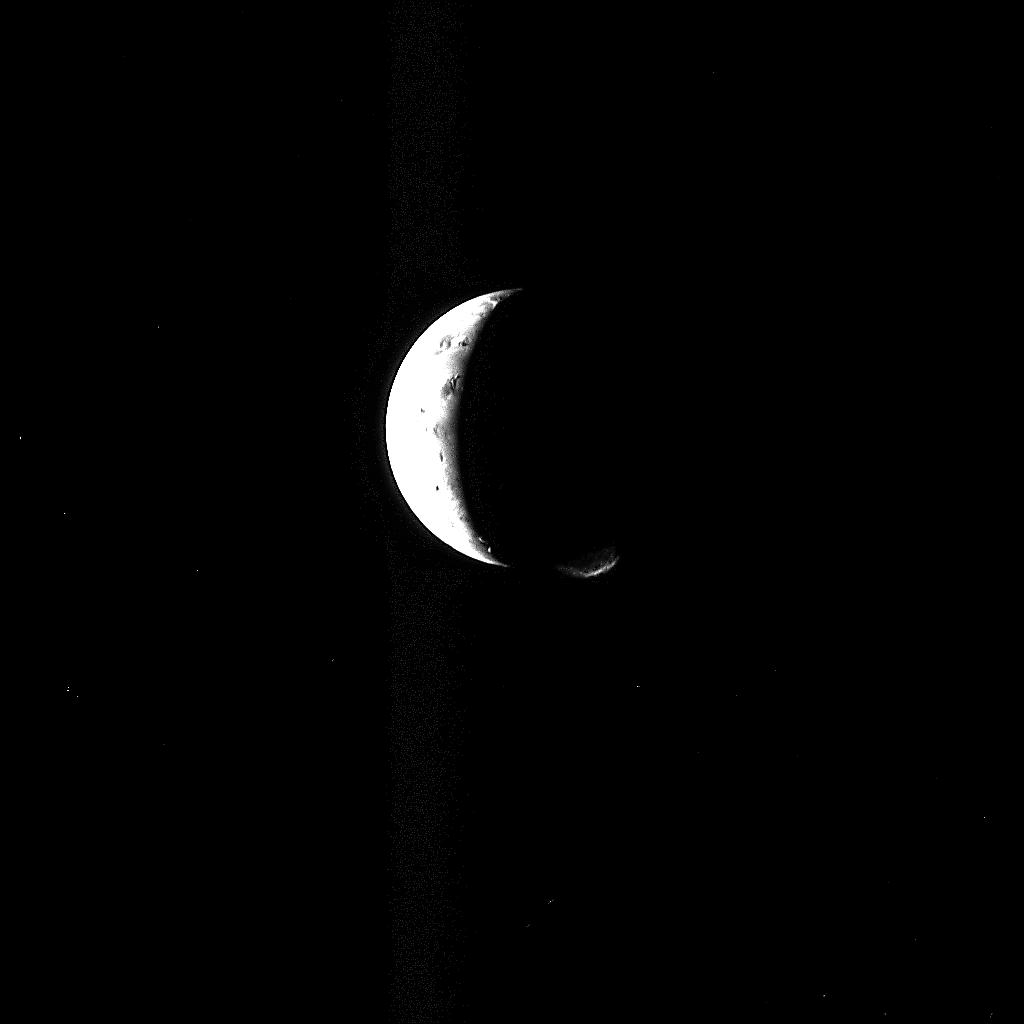plumes: (562, 558, 618, 578)
